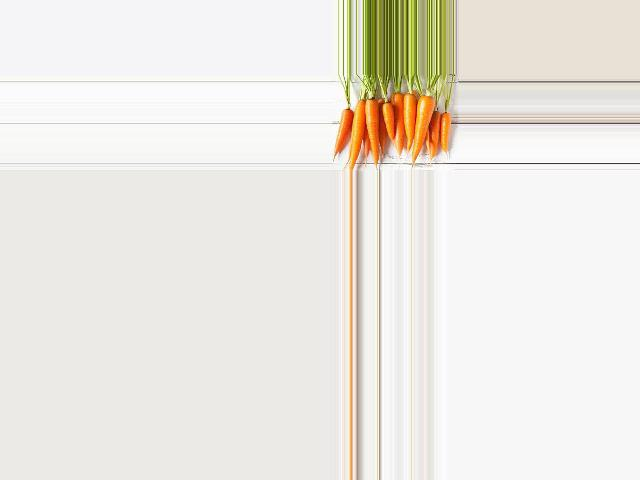carrot: (435, 109, 454, 157)
